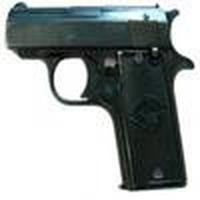gun: (3, 2, 194, 199)
